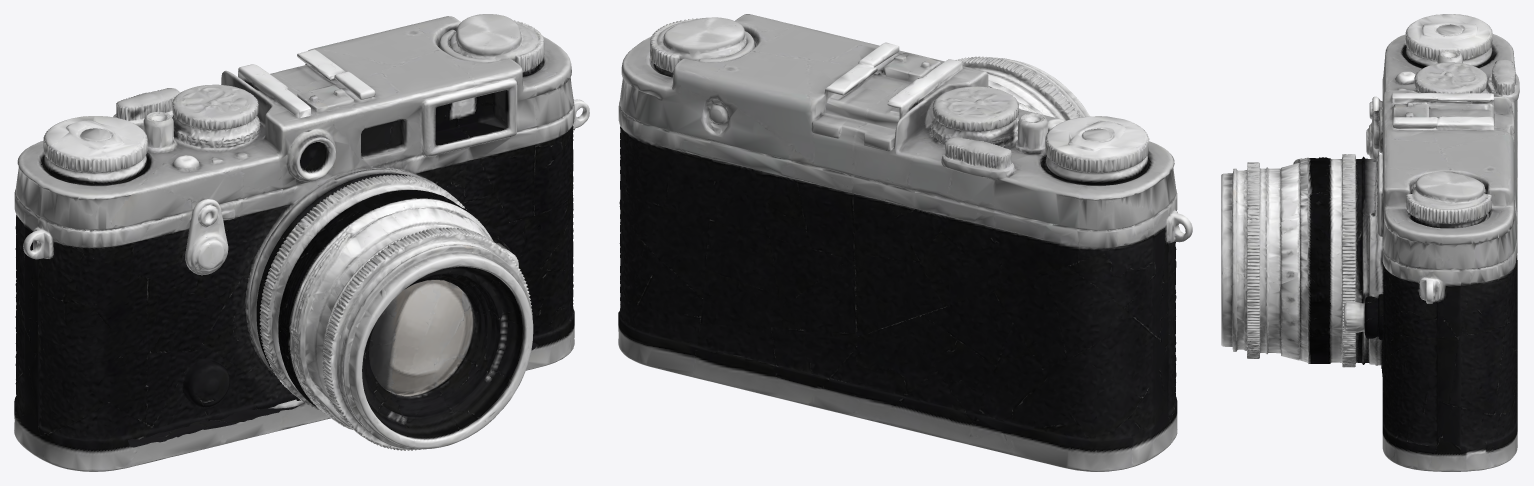
The model's file is ad-vintage-camera-recording.glb.
3 views of the same model, side by side, from view 1: azimuth 30°, elevation 25°; view 2: azimuth 150°, elevation 25°; view 3: azimuth 270°, elevation 25° (orthographic). The views are drawn at different scales.
Bounding box in the file's own units: 1.9 × 1.01 × 1.04.
Materials: 1 (1 with a texture image).
